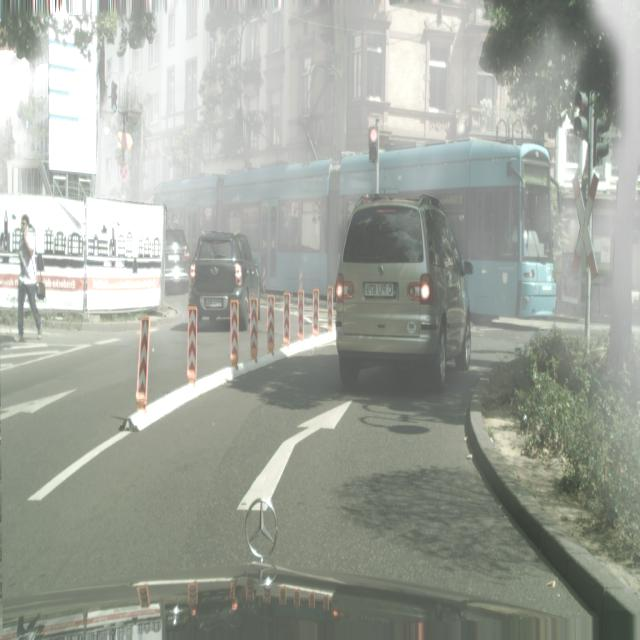bicycle: (149, 135, 556, 311)
bus: (16, 214, 42, 341)
person: (335, 194, 474, 393), (189, 231, 261, 329), (165, 228, 191, 296)
